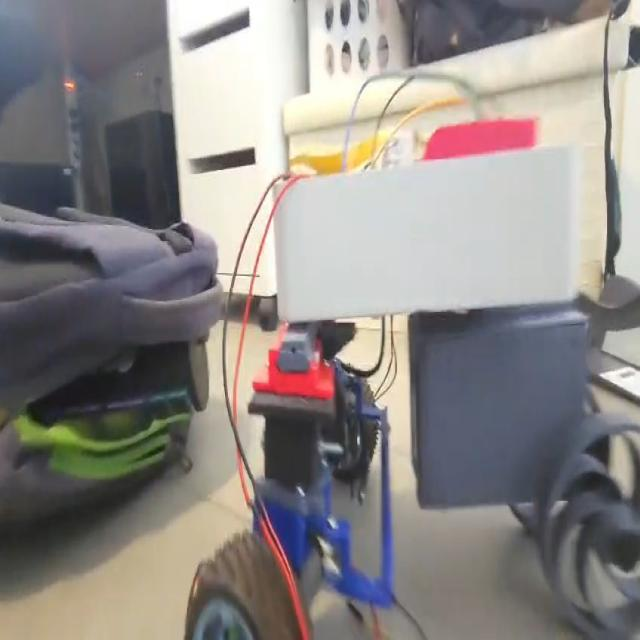Robot: (183, 111, 640, 640)
